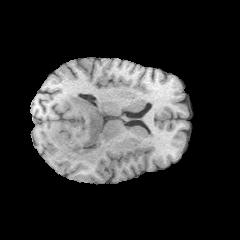glioma: (49, 94, 104, 163)
